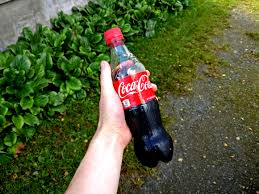coke: (103, 30, 176, 164)
